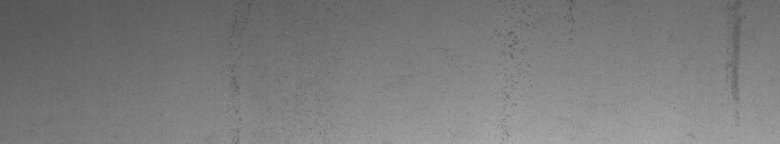ib: (496, 4, 584, 100)
